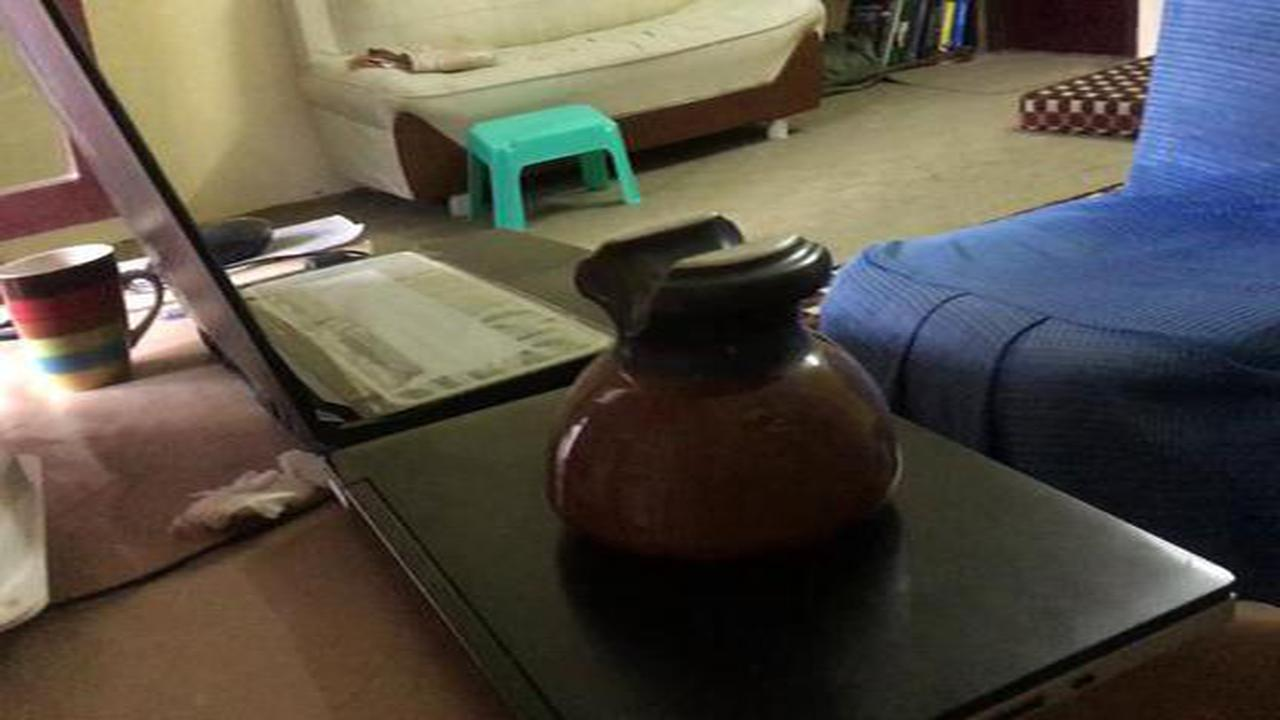insulator_pin: (505, 210, 924, 592)
